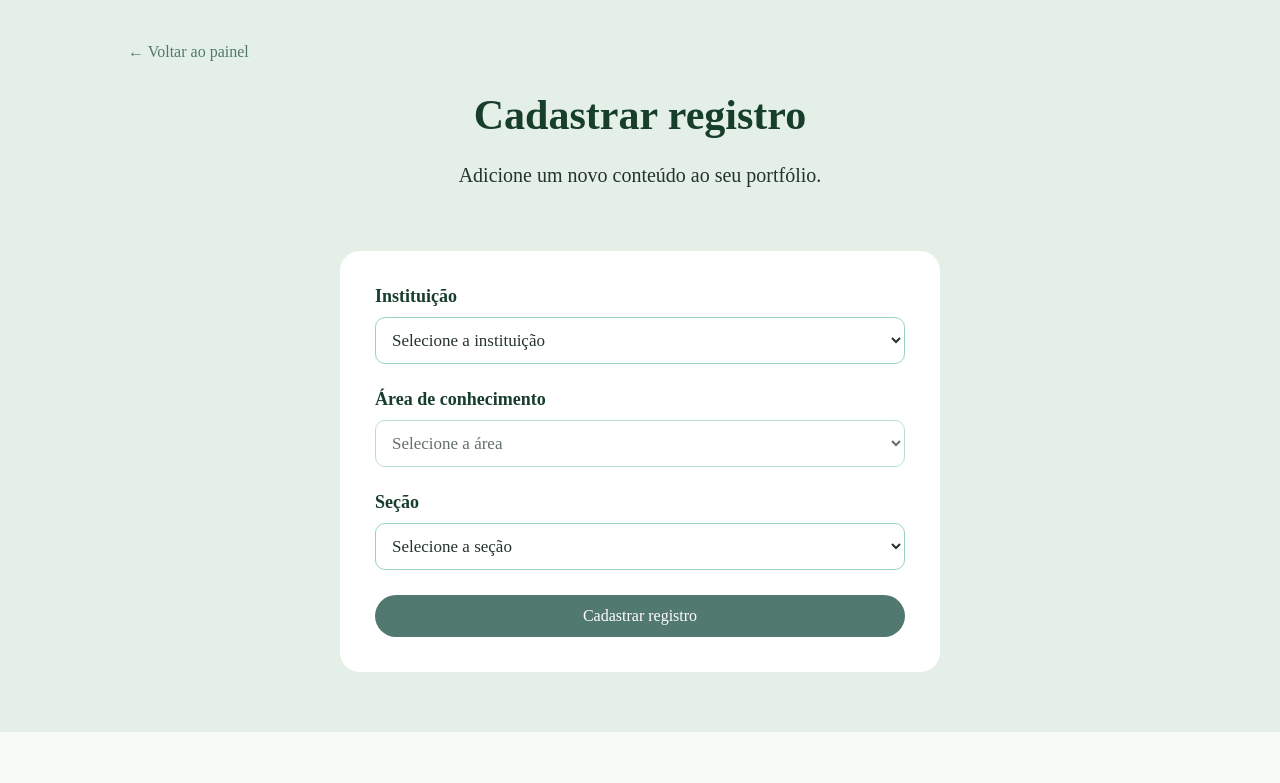
Test: Página CadastroRegistro › Deve cadastrar um registro do SESI com sucesso
Select "SESI" in the dropdown labelled "Instituição" at x=640, y=340, box [375,317,905,364]
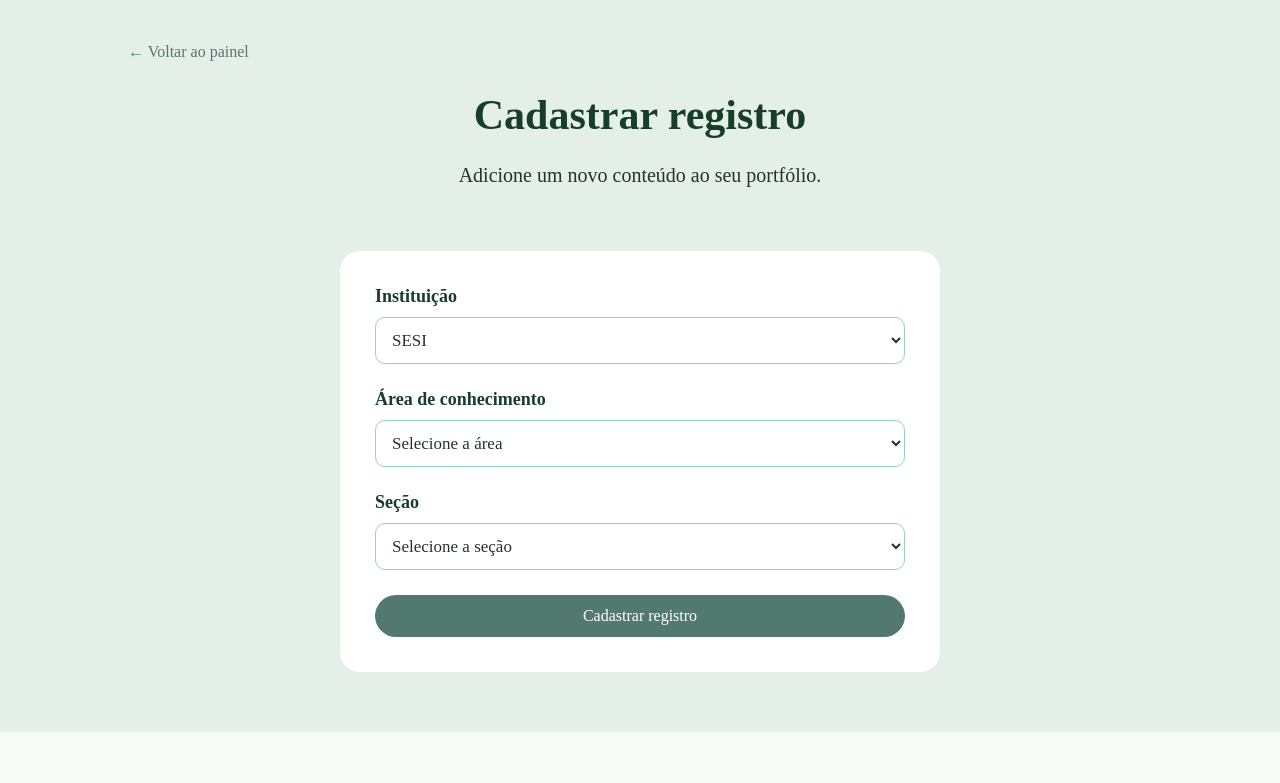
Select "Matemática" in the dropdown labelled "Área de conhecimento" at x=640, y=444, box [375,420,905,467]
Select "Fundamentos Teóricos" in the dropdown labelled "Seção" at x=640, y=546, box [375,523,905,570]
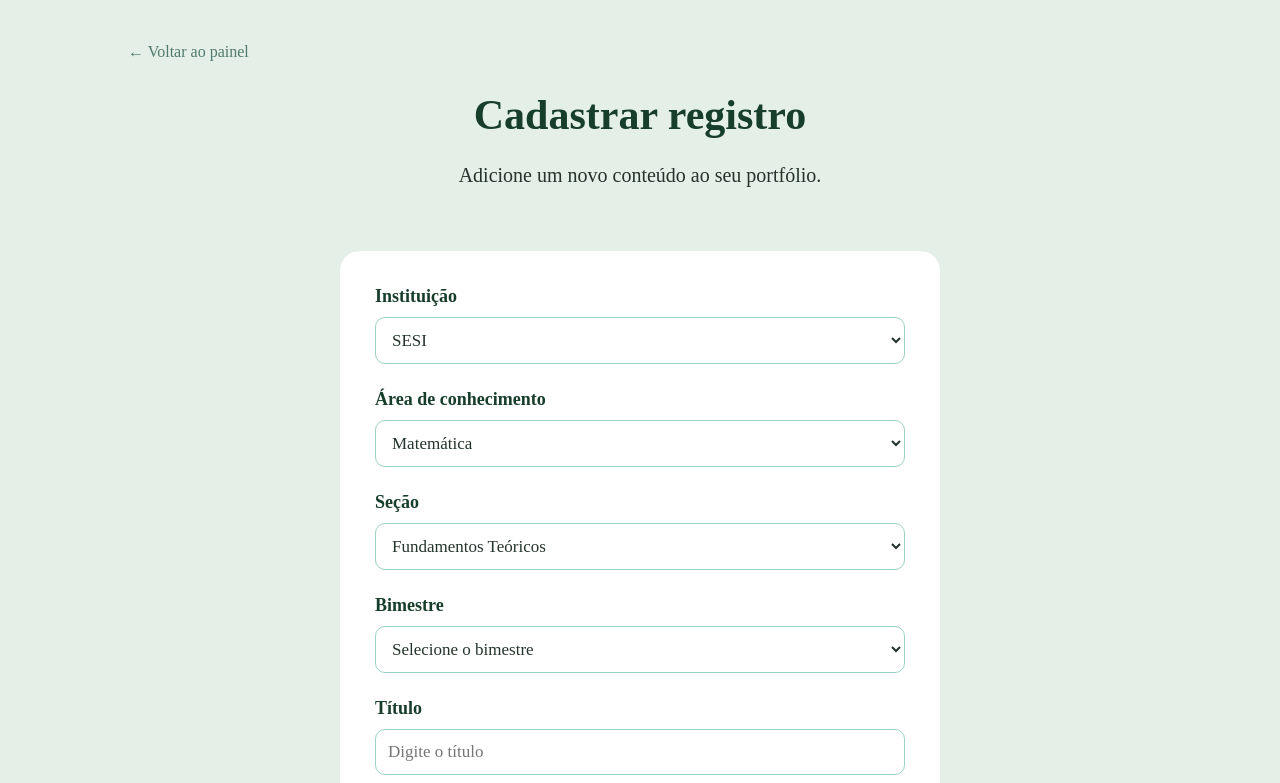
Select "1º Bimestre" in the dropdown labelled "Bimestre" at x=640, y=650, box [375,626,905,673]
Type "Registro de teste" into the field labelled "Título".
click(640, 752); type("Registro de teste")  # box [375,729,905,775]
(page scrolled)
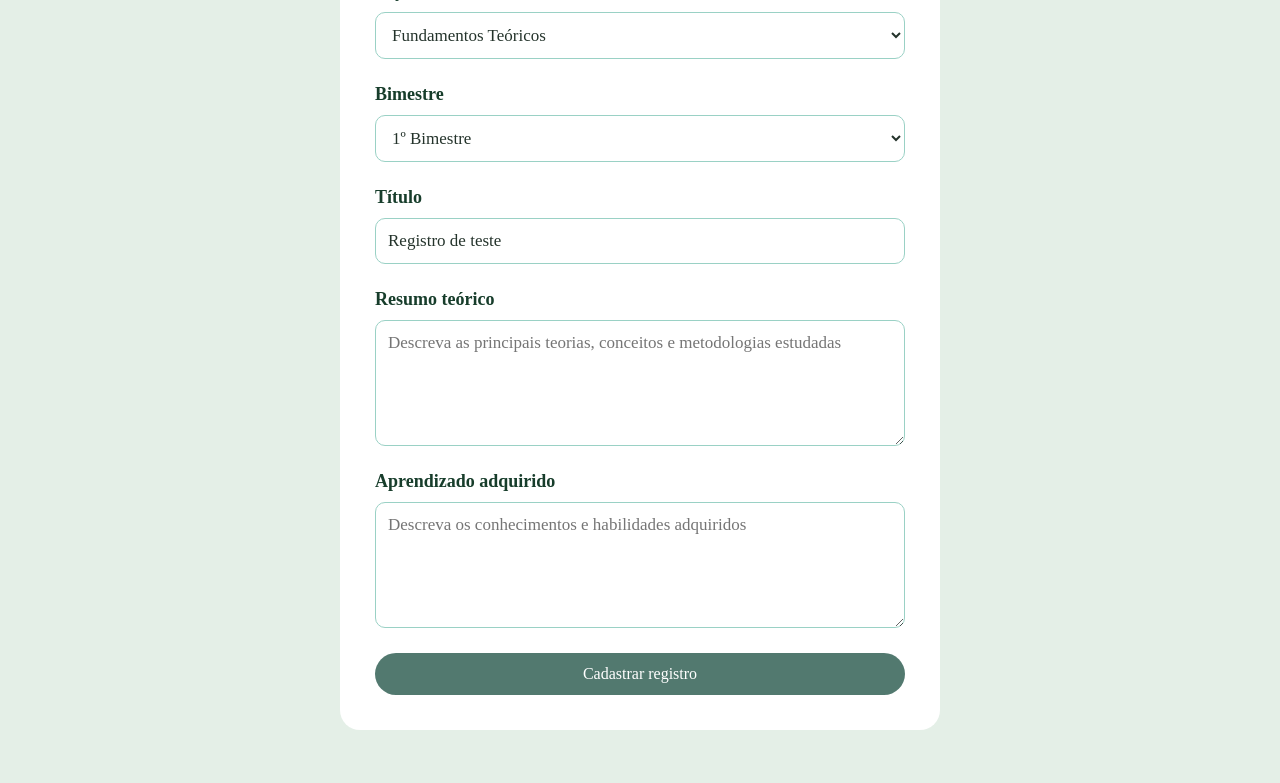
Replace the text in the text box labelled "Resumo teórico" with "Descrição do registro de teste" at x=640, y=383, box [375,320,905,446]
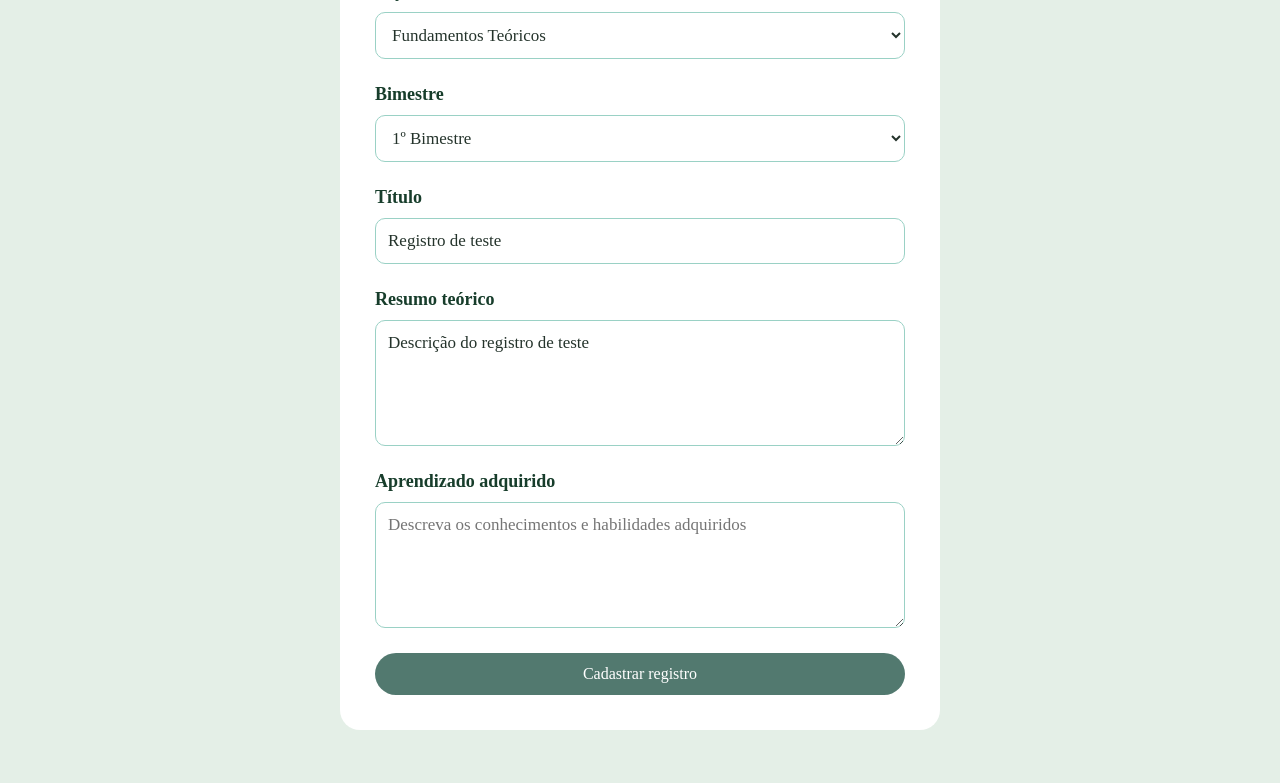
Type "Aprendizado adquirido durante a atividade" into the text box labelled "Aprendizado adquirido".
click(640, 565); type("Aprendizado adquirido durante a atividade")  # box [375,502,905,628]
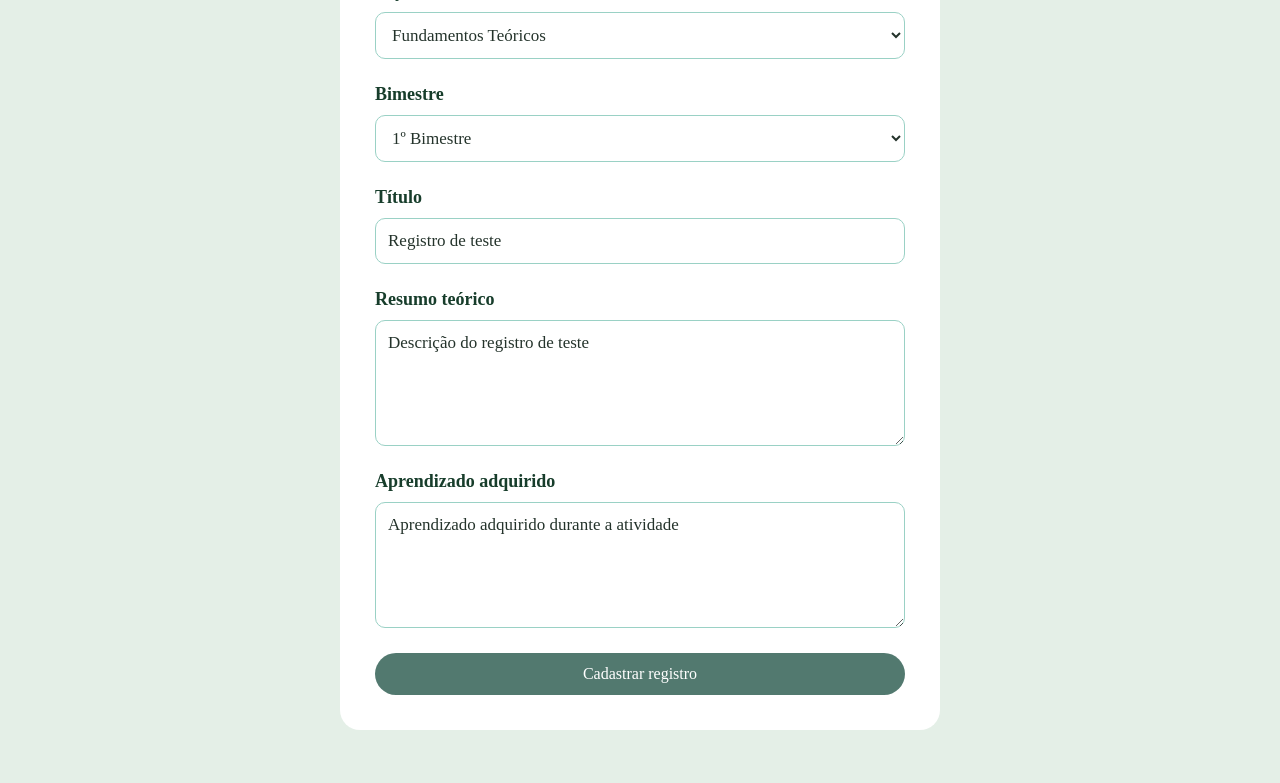
Click the button "Cadastrar registro".
click(640, 674)  # box [375,653,905,695]
(page scrolled)
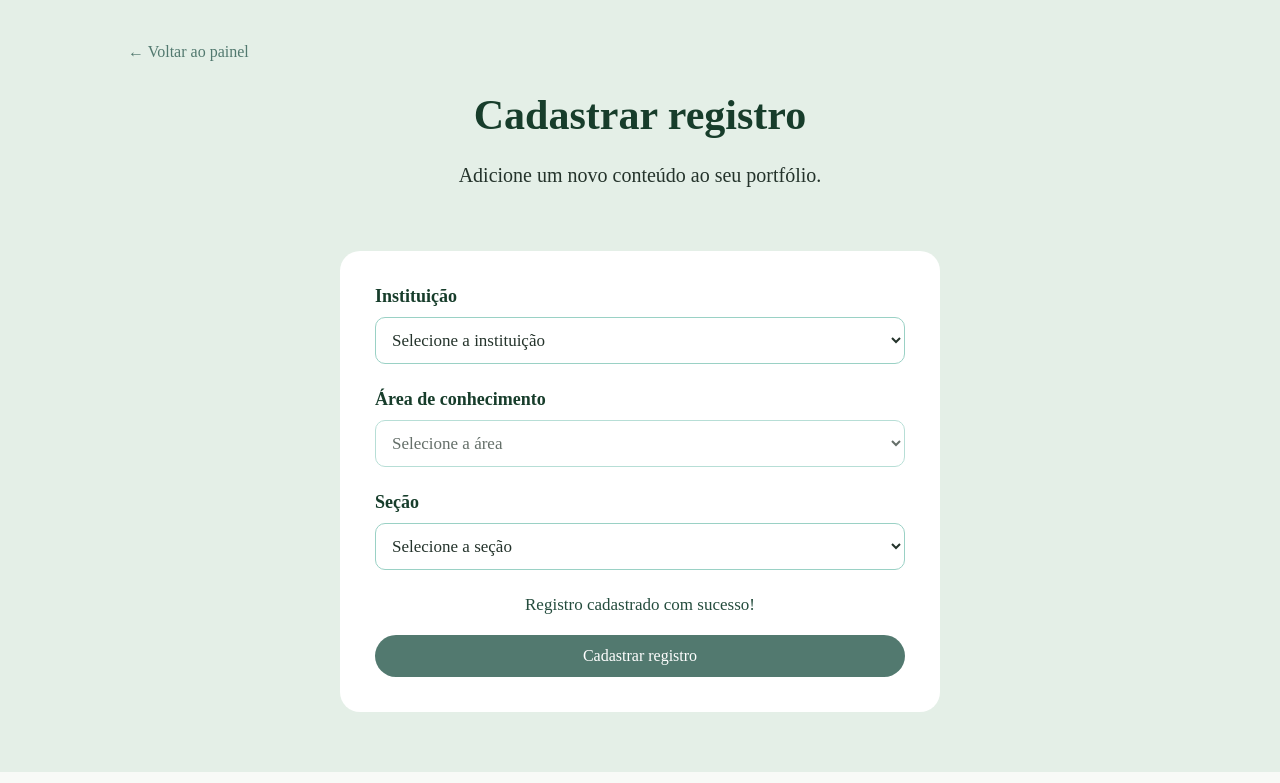
expect the text "Registro cadastrado com sucesso!" is shown: met, box [525,595,755,614]
